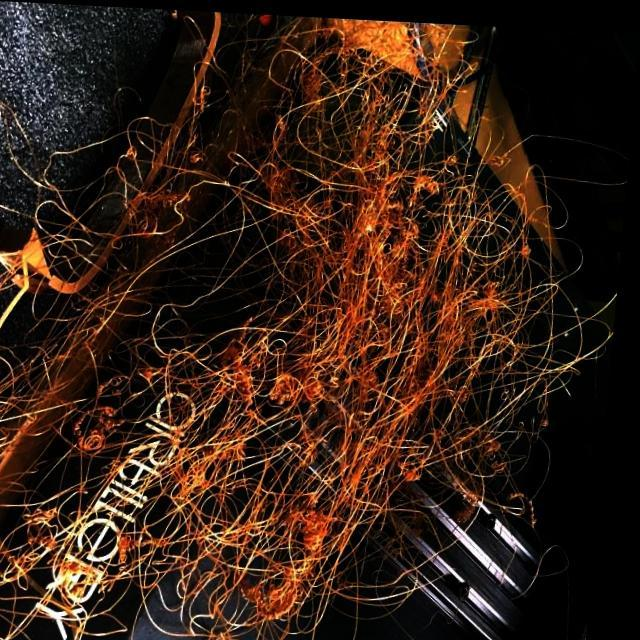spaghetti: (391, 216, 592, 431), (228, 308, 382, 498), (257, 163, 407, 311), (371, 406, 532, 519), (203, 501, 323, 640), (296, 52, 439, 162), (23, 487, 149, 609), (160, 132, 281, 259), (109, 371, 236, 484), (403, 157, 542, 250), (56, 182, 159, 302), (313, 505, 424, 615), (1, 340, 91, 456)
